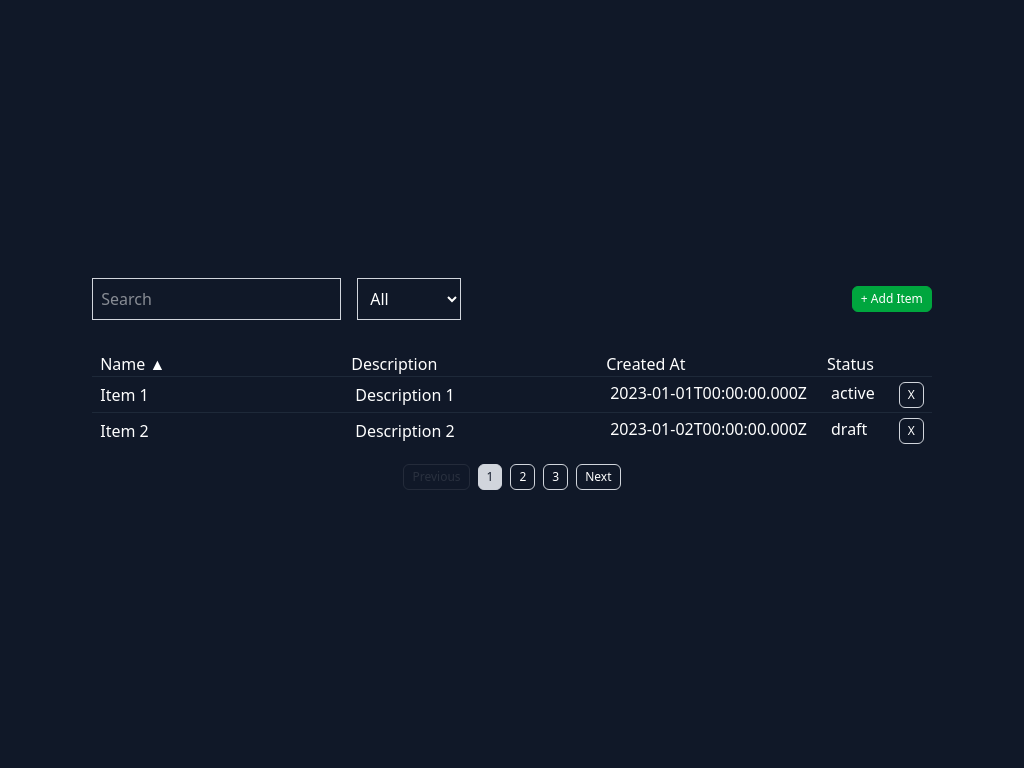
Test: PaginatedList Component - Optimistic Updates and Pagination › should handle successful item deletion optimistically
Note: Click delete button on first item
Click the button "X" next to "active". click: point(911, 395)
box: [899,382,924,408]
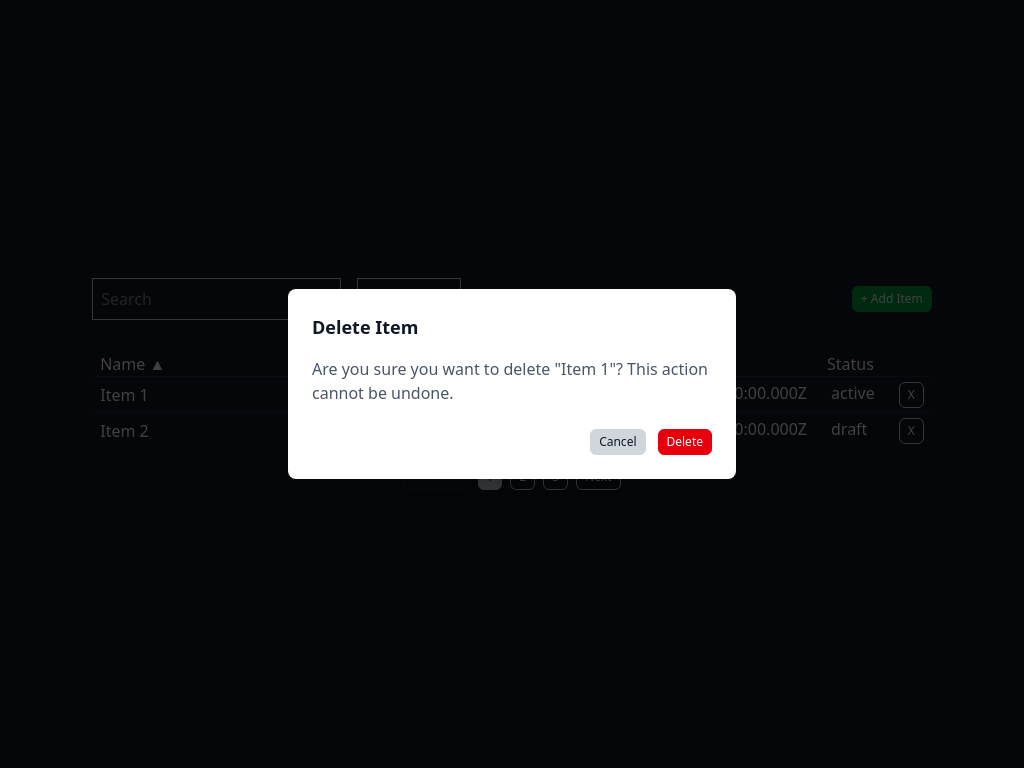
Note: Confirm deletion
Click the button "Delete". click: point(685, 442)
box: [658,429,712,455]
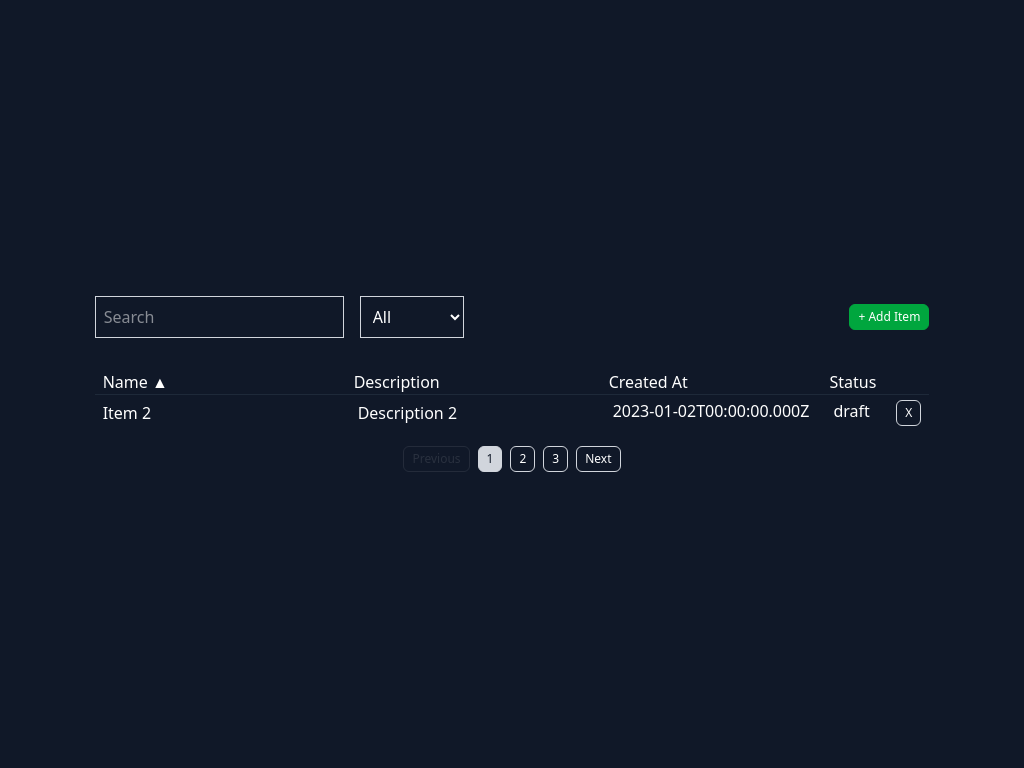
Expected: the 1st field showing "Item 2" is shown, [95,399,342,426]
Expected: the text showing "Item 1" is gone
